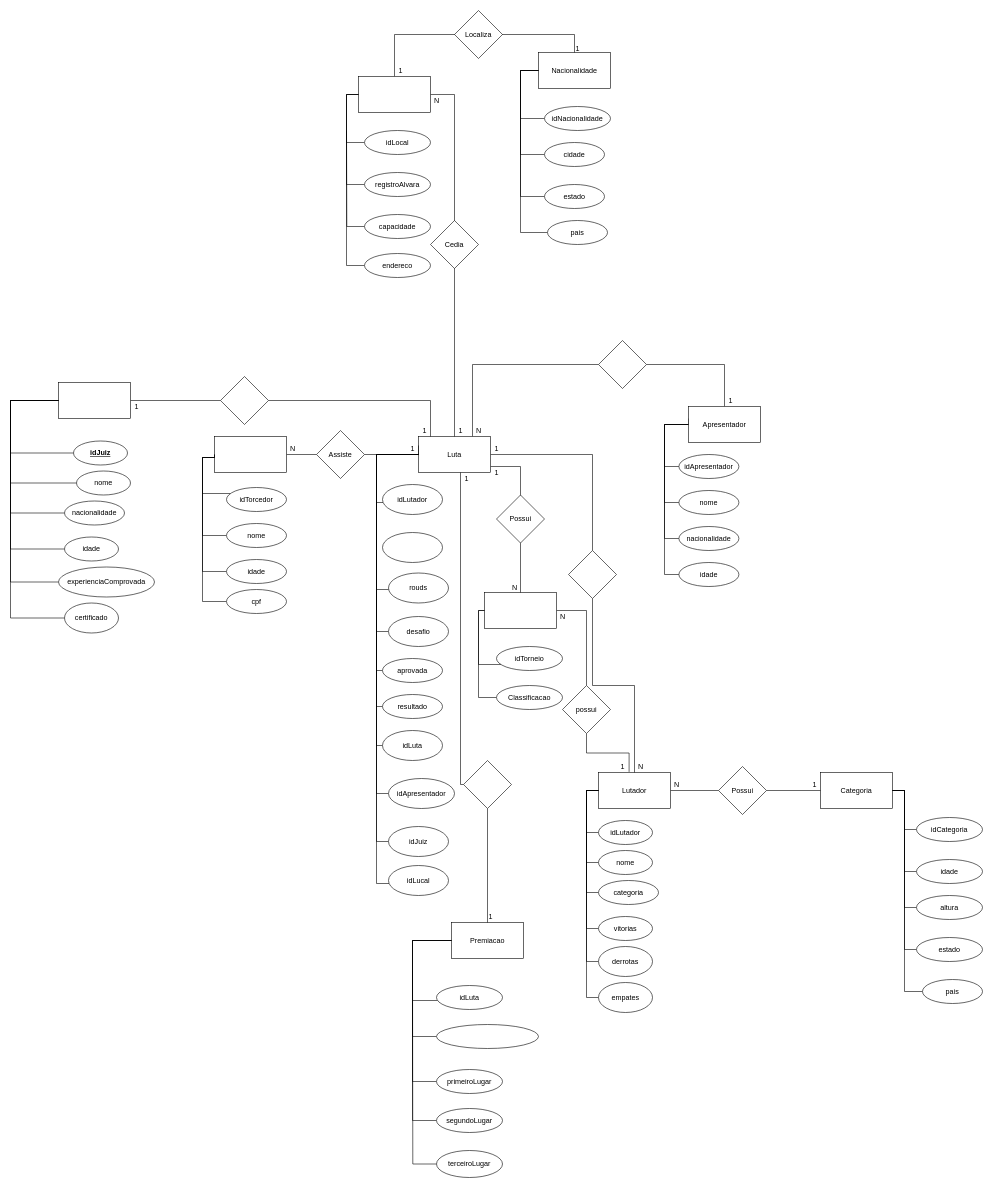
Some shapes in this 993 by 1188 pixel diagram are drawn without their labels. Here are the shapes that lost their labels. From the top down, the centre of each, then its label:
[394,94]: LocalLuta
[622,364]: Apresenta
[94,400]: juiz
[244,400]: Avalia
[250,454]: Torcedor
[412,547]: desafiante
[592,574]: participa
[520,610]: Torneio
[487,784]: recebe
[487,1036]: classifficacaoPremiacao
